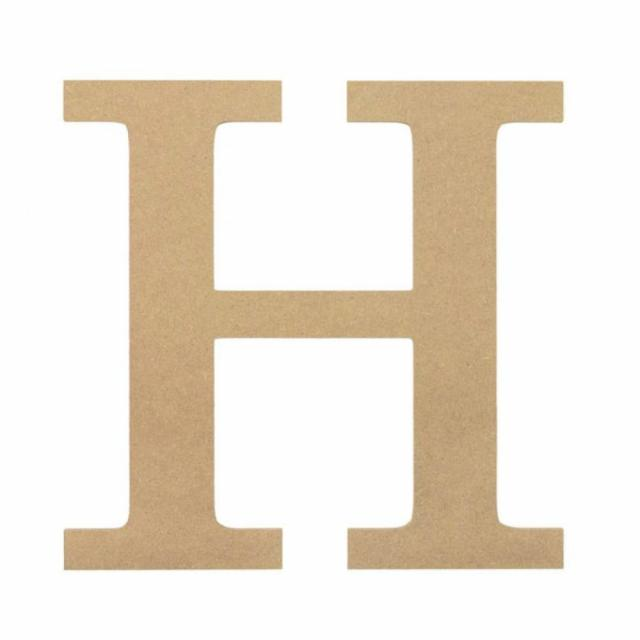H: (42, 46, 604, 600)
